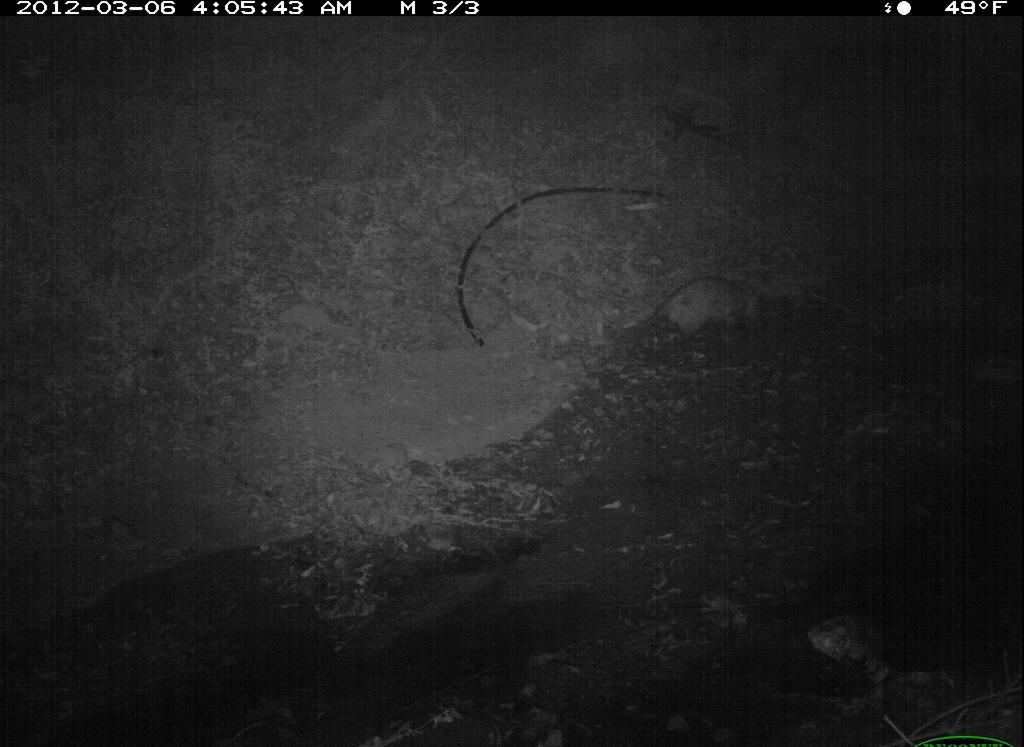opossum: (610, 264, 777, 351)
